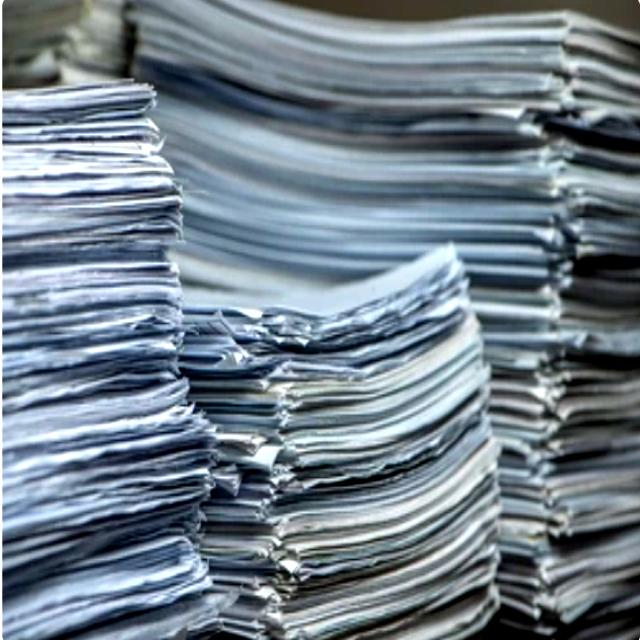Paper: (0, 89, 231, 640), (145, 0, 633, 251), (183, 271, 502, 640)
